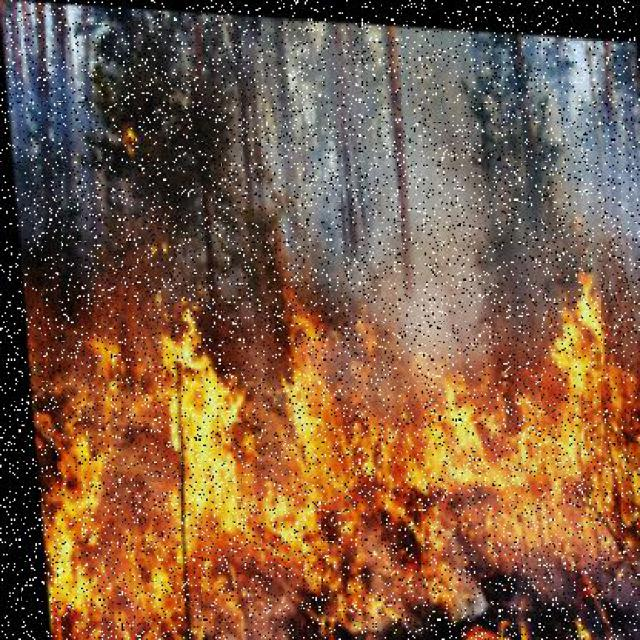fire: (17, 240, 640, 640)
